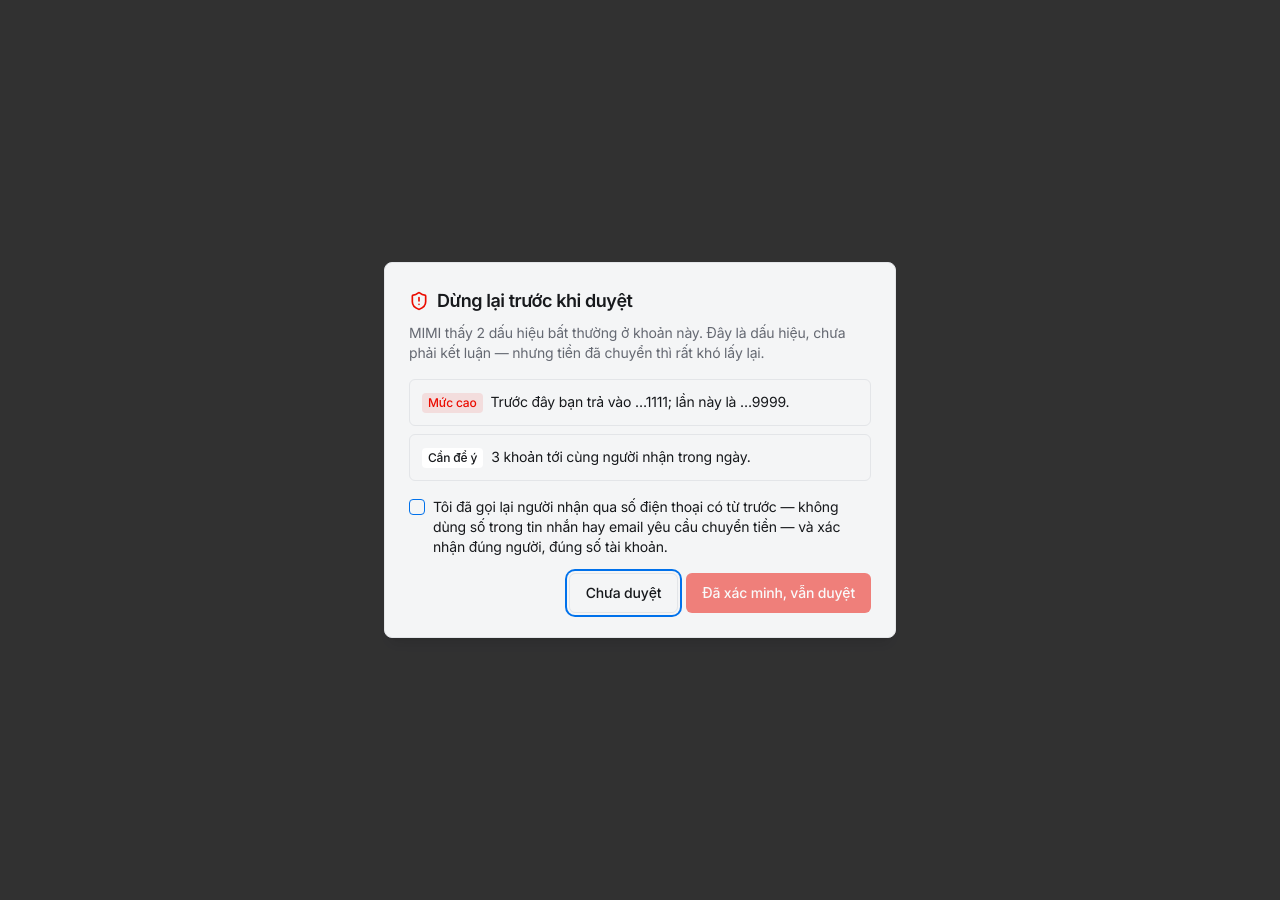
HopXacMinh › liệt kê từng dấu hiệu kèm mức; nút đi tiếp khoá tới khi tích ô xác minh
Later steps or results of the test are not shown.
Expected: the list named "Dấu hiệu bất thường" shows "Mức cao", [428,395,476,410]
Expected: the list named "Dấu hiệu bất thường" shows "…9999", [490,393,789,410]
Click the button "Đã xác minh, vẫn duyệt".
click(779, 593)  # box [686,573,871,613]
Click the checkbox named "Tôi đã xác minh người nhận".
click(417, 507)  # box [409,499,425,515]
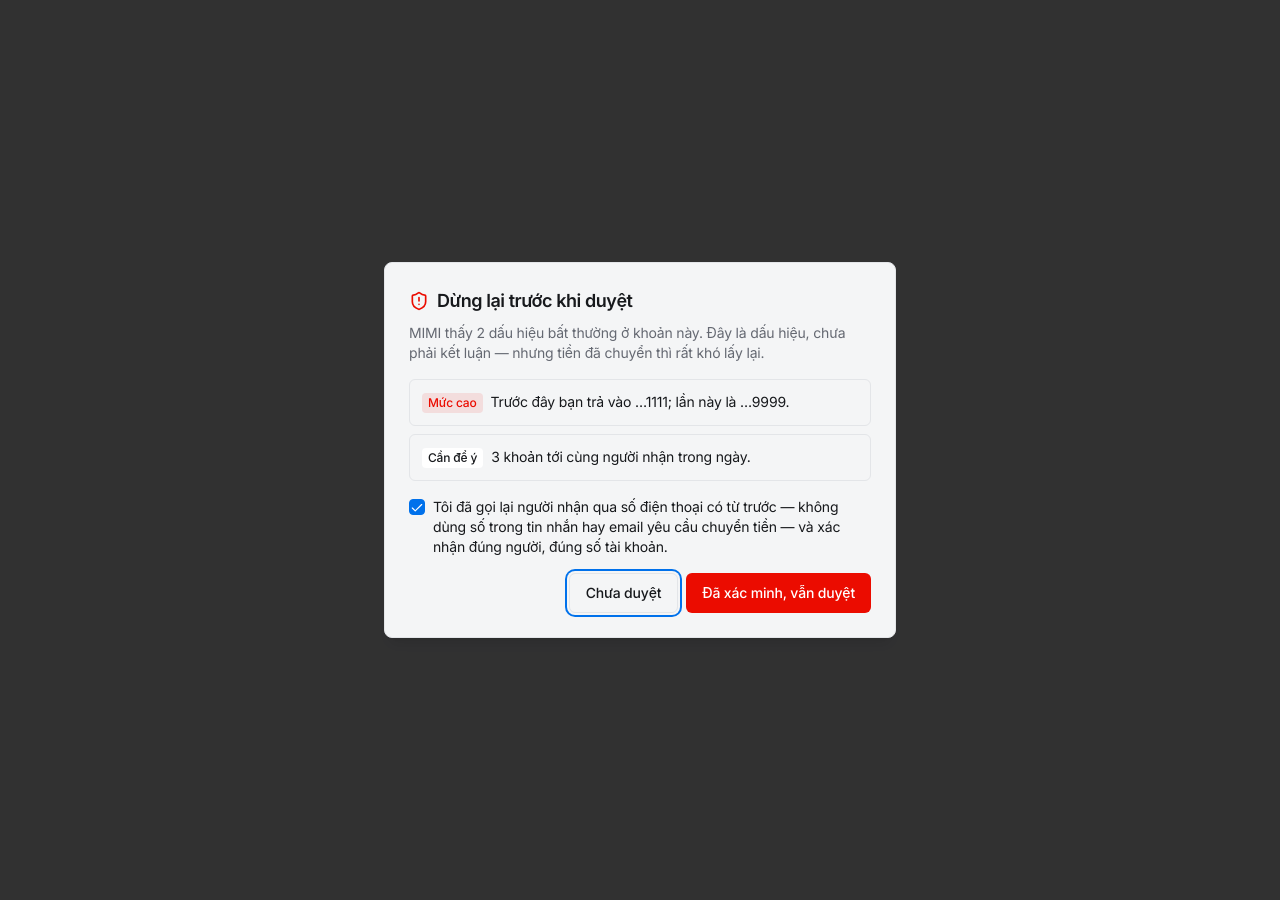
Result: the button "Đã xác minh, vẫn duyệt" is enabled at [686,573,871,613]
